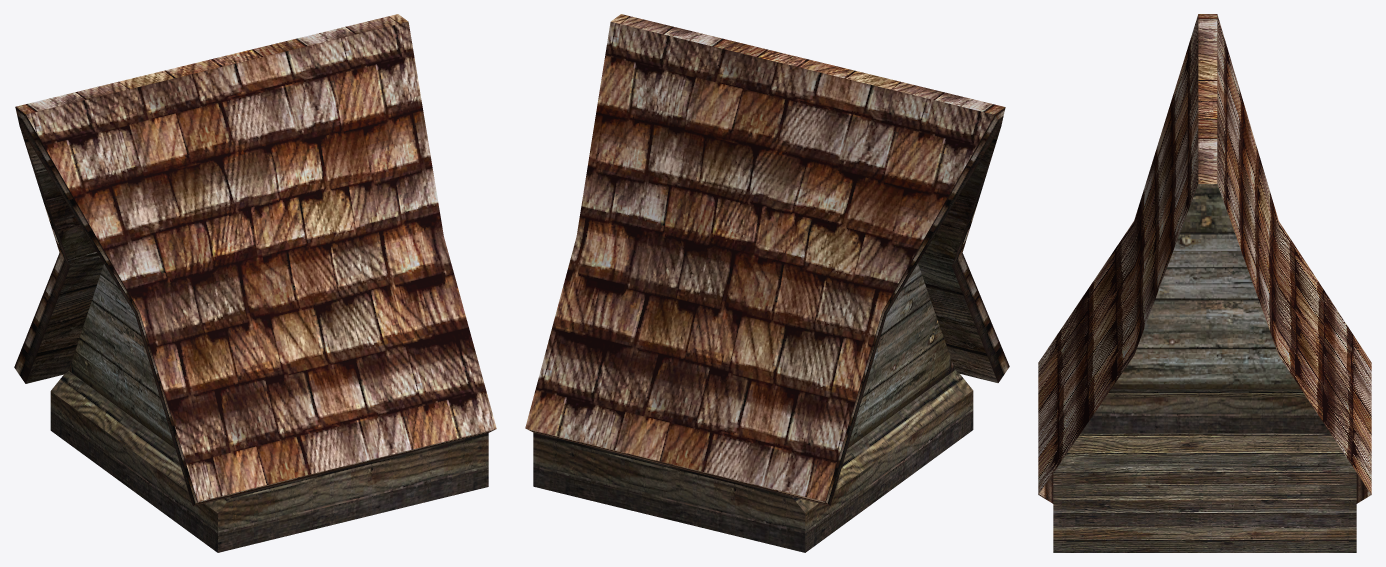
Rendered from loc2_14.glb.
3 renders of one model, left to right at view 1: azimuth 30°, elevation 25°; view 2: azimuth 150°, elevation 25°; view 3: azimuth 270°, elevation 25°, orthographic. The views are drawn at different scales.
Visible parts, largest first — view 1: loc2_14; view 2: loc2_14; view 3: loc2_14.
Part boxes in pixels (x1,y1,x2,y2): loc2_14: [14, 14, 496, 552]; loc2_14: [525, 14, 1009, 552]; loc2_14: [1038, 14, 1371, 552].
Bounding box in the file's own units: 4.27 × 4.33 × 3.54.
Materials: 5 (5 with a texture image).
